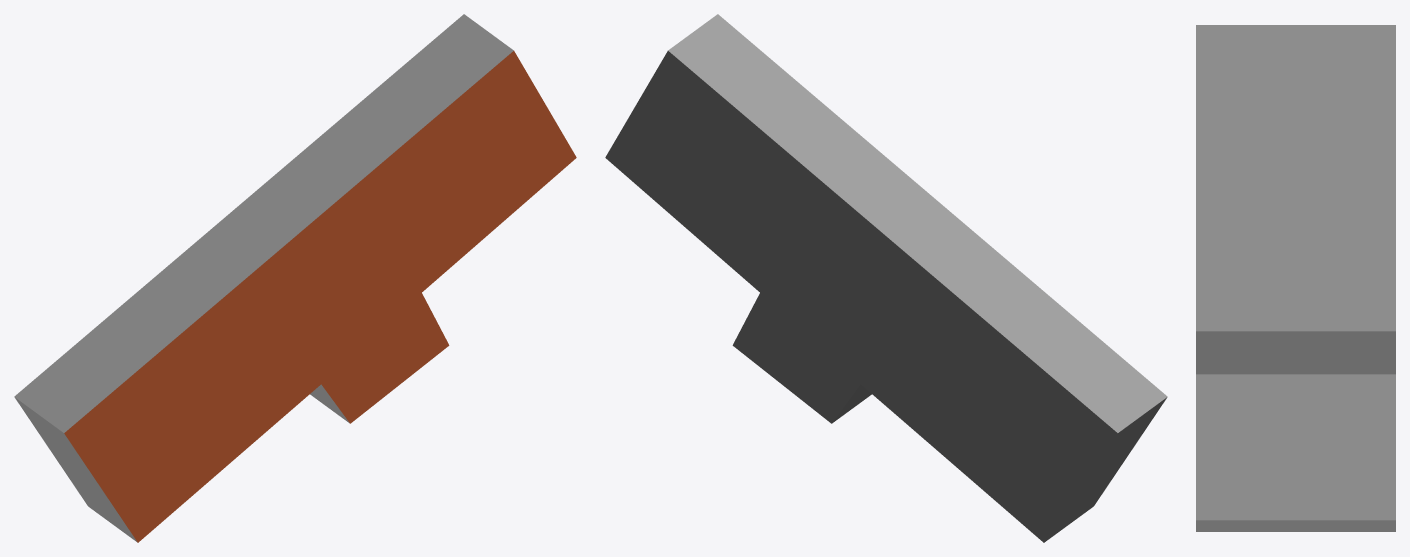
Rendered from construction_5156_assumed_A_Casa_h6m.obj.
3 views of the same model, side by side, from view 1: azimuth 30°, elevation 25°; view 2: azimuth 150°, elevation 25°; view 3: azimuth 270°, elevation 25° (orthographic). The views are drawn at different scales.
Parts seen in each view (by area): view 1: construction_5156_assumed_A_Casa; view 2: construction_5156_assumed_A_Casa; view 3: construction_5156_assumed_A_Casa.
Boxes of the visible parts, bbox=[...] form: construction_5156_assumed_A_Casa: bbox=[14, 14, 576, 542]; construction_5156_assumed_A_Casa: bbox=[605, 14, 1167, 542]; construction_5156_assumed_A_Casa: bbox=[1196, 25, 1395, 531].
Size of the model in its own units: 35.56 by 26.56 by 6.
